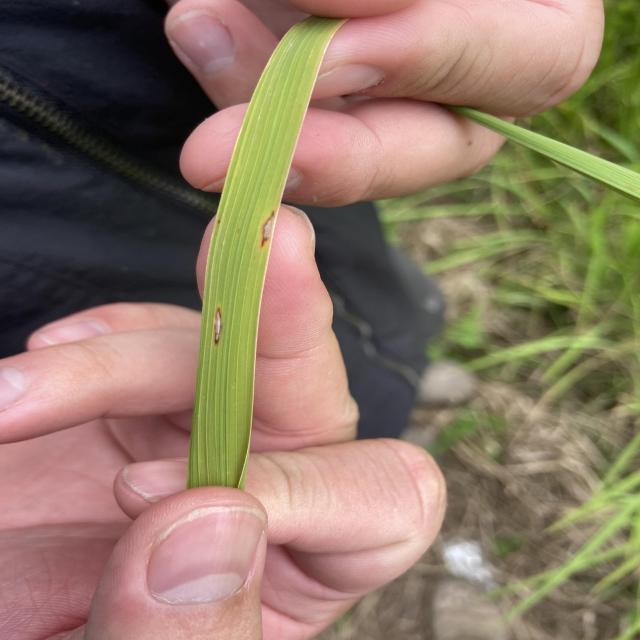Dao on: (260, 210, 277, 248), (213, 308, 224, 345)
